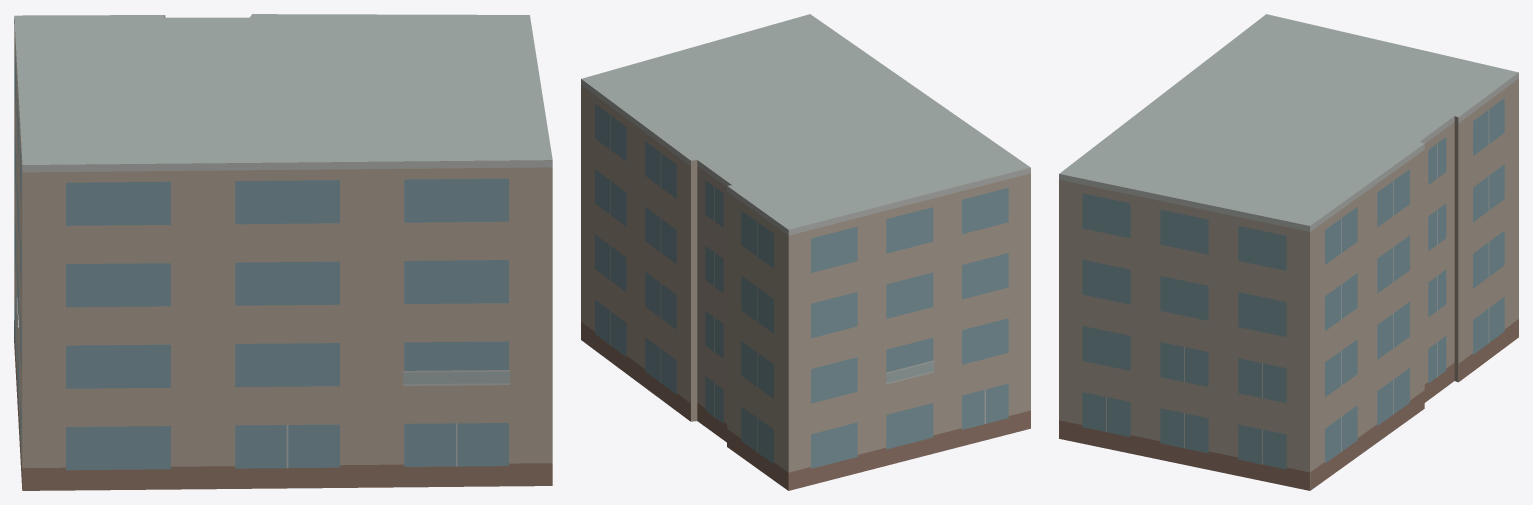
The model's file is survey-upis-32887836.glb.
3 renders of one model, left to right at view 1: azimuth 30°, elevation 25°; view 2: azimuth 150°, elevation 25°; view 3: azimuth 270°, elevation 25°, orthographic. The views are drawn at different scales.
Visible parts, largest first — view 1: survey-upis-32887836.tmp; view 2: survey-upis-32887836.tmp; view 3: survey-upis-32887836.tmp.
Part boxes in pixels (x1,y1,x2,y2): survey-upis-32887836.tmp: (14, 14, 552, 490); survey-upis-32887836.tmp: (581, 14, 1030, 490); survey-upis-32887836.tmp: (1059, 14, 1518, 490).
Bounding box in the file's own units: 18.72 × 10.9 × 17.16.
